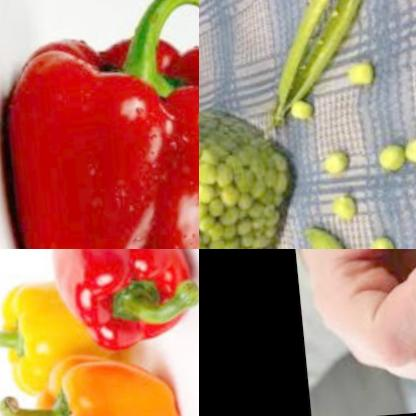bell pepper: (0, 0, 199, 249), (38, 249, 199, 360), (0, 279, 110, 402), (20, 354, 177, 416)
peas: (239, 0, 382, 126), (199, 101, 287, 249), (282, 101, 334, 148), (367, 136, 416, 180), (328, 50, 377, 91), (317, 192, 359, 231), (320, 155, 343, 186), (356, 238, 389, 249)
